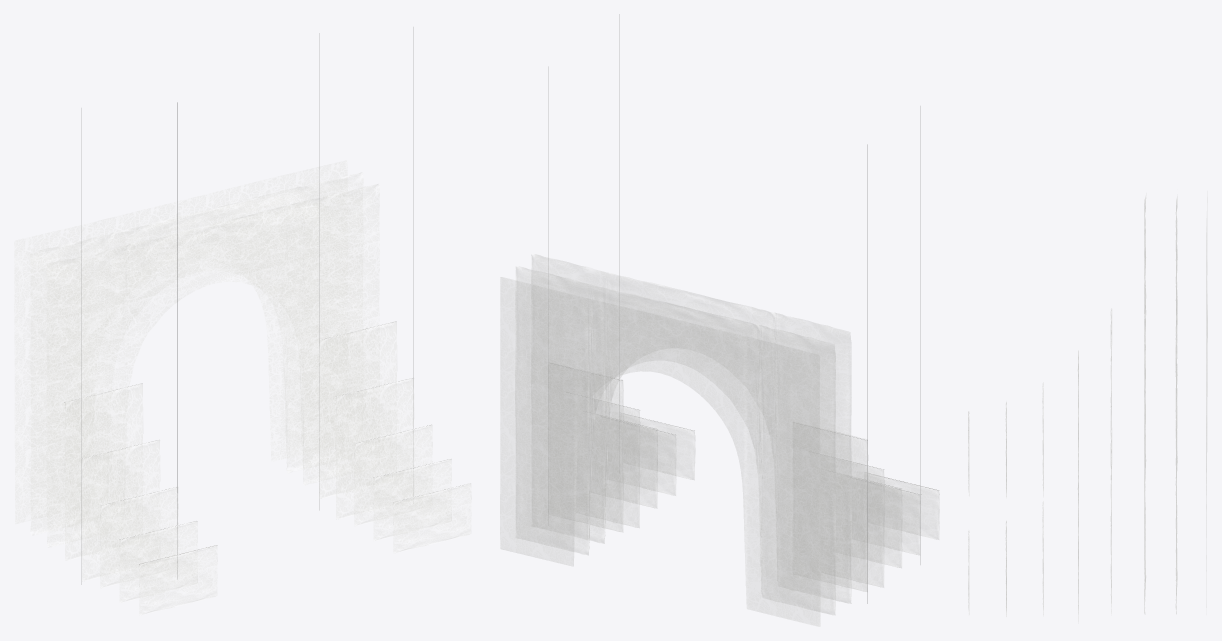
Rendered from fat2.glb.
3 views of the same model, side by side, from view 1: azimuth 30°, elevation 25°; view 2: azimuth 150°, elevation 25°; view 3: azimuth 270°, elevation 25° (orthographic). The views are drawn at different scales.
Visible parts, largest first — view 1: Plane.003, Plane.001, Plane, Plane.005, Plane.004, Plane.007, Plane.006, Plane.008, Plane.009, Plane.010, Plane.011, Plane.012 (+1 smaller); view 2: Plane, Plane.001, Plane.003, Plane.004, Plane.005, Plane.006, Plane.007, Plane.009, Plane.008, Plane.010, Plane.011, Plane.012 (+1 smaller); view 3: Plane.001, Plane.003, Plane.
Boxes of the visible parts, <box> form: Plane.003: <box>47,184,379,547</box>; Plane.001: <box>30,172,363,535</box>; Plane: <box>14,160,347,523</box>; Plane.005: <box>318,321,397,498</box>; Plane.004: <box>64,383,143,560</box>; Plane.007: <box>82,440,160,581</box>; Plane.006: <box>336,378,414,519</box>; Plane.008: <box>100,487,178,587</box>; Plane.009: <box>354,425,432,525</box>; Plane.010: <box>373,459,451,540</box>; Plane.011: <box>119,521,197,602</box>; Plane.012: <box>139,545,217,614</box>; Plane: <box>500,277,820,626</box>; Plane.001: <box>515,266,835,615</box>; Plane.003: <box>531,254,851,603</box>; Plane.004: <box>824,430,868,591</box>; Plane.005: <box>578,378,623,532</box>; Plane.006: <box>596,404,640,528</box>; Plane.007: <box>837,462,884,587</box>; Plane.009: <box>612,421,657,508</box>; Plane.008: <box>853,481,902,568</box>; Plane.010: <box>625,427,676,495</box>; Plane.011: <box>871,486,920,555</box>; Plane.012: <box>868,474,939,539</box>; Plane.001: <box>1175,196,1177,613</box>; Plane.003: <box>1144,193,1146,613</box>; Plane: <box>1206,191,1207,607</box>.
Size of the model in its own units: 37.64 by 51.46 by 24.45.
Materials: 15 (13 with a texture image).
